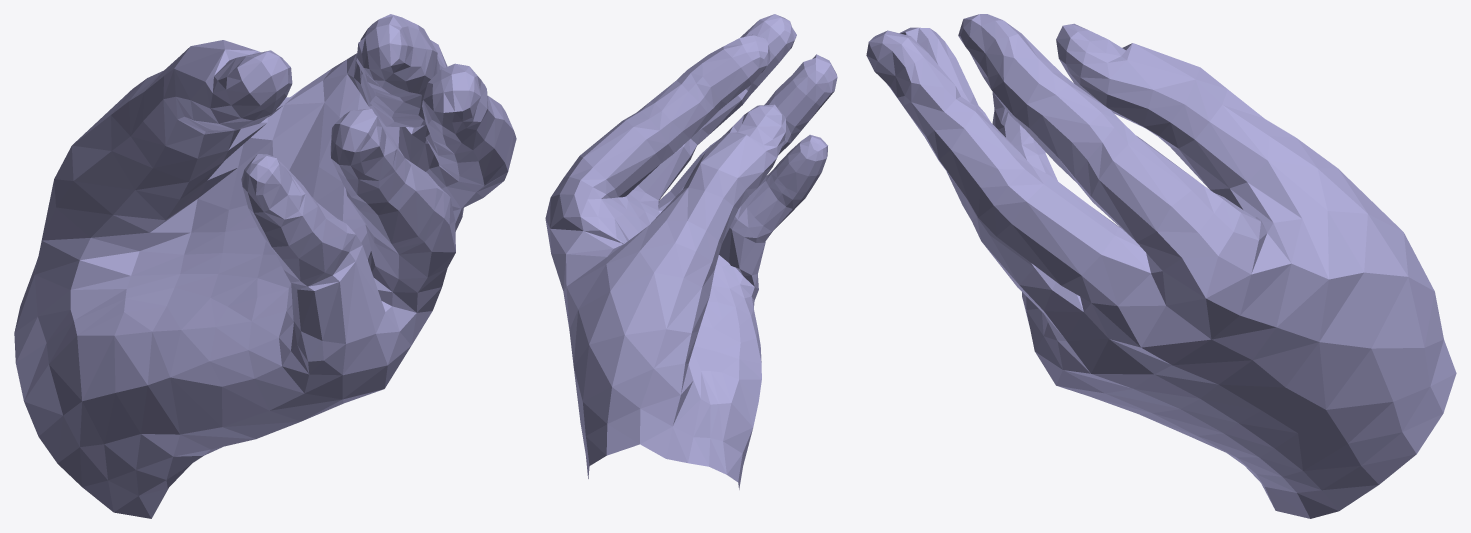
The model's file is hand_0010.glb.
3 renders of one model, left to right at view 1: azimuth 30°, elevation 25°; view 2: azimuth 150°, elevation 25°; view 3: azimuth 270°, elevation 25°, orthographic. The views are drawn at different scales.
Visible parts, largest first — view 1: world; view 2: world; view 3: world.
Part boxes in pixels (x1,y1,x2,y2): world: [14, 14, 516, 518]; world: [545, 14, 837, 489]; world: [866, 14, 1456, 518].
Bounding box in the file's own units: 0.0841 × 0.1369 × 0.1391.
